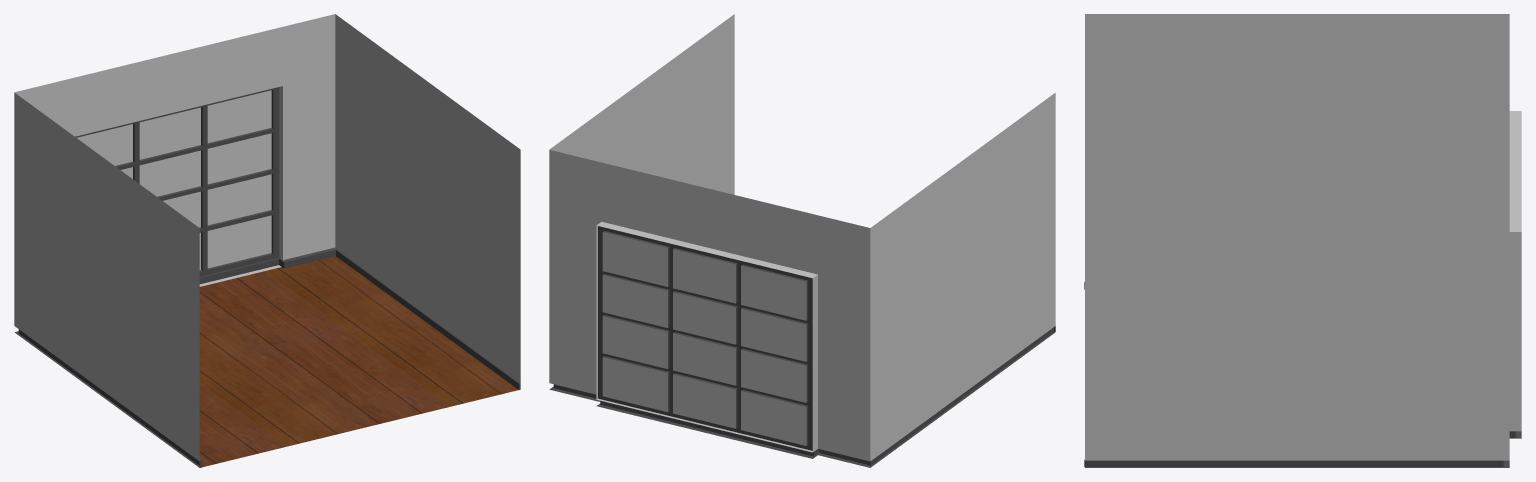
Rendered from simple.obj.
The picture shows the model from 3 angles, left to right: view 1: azimuth 30°, elevation 25°; view 2: azimuth 150°, elevation 25°; view 3: azimuth 270°, elevation 25°; orthographic projection. The views are drawn at different scales.
Parts seen in each view (by area): view 1: Plane; view 2: Plane; view 3: Plane.
Part boxes in pixels (bbox=[...]): Plane: bbox=[14, 14, 520, 467]; Plane: bbox=[549, 14, 1055, 467]; Plane: bbox=[1084, 14, 1521, 467].
Size of the model in its own units: 2 by 1.43 by 2.06.
4 materials, 1 textured.
